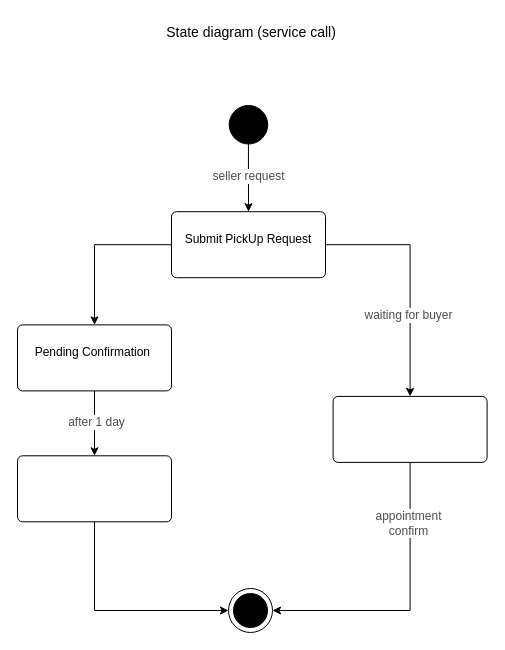
This 505x650 diagram has some shape labels left out. Each missing label, with the centre of its shape:
Accepted PickUp: the point at 409,428
Cancelled Request ( Expired ): the point at 94,488
